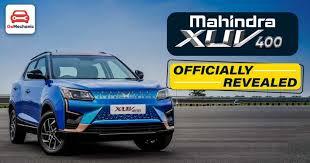XUV 400: (7, 49, 176, 155)
